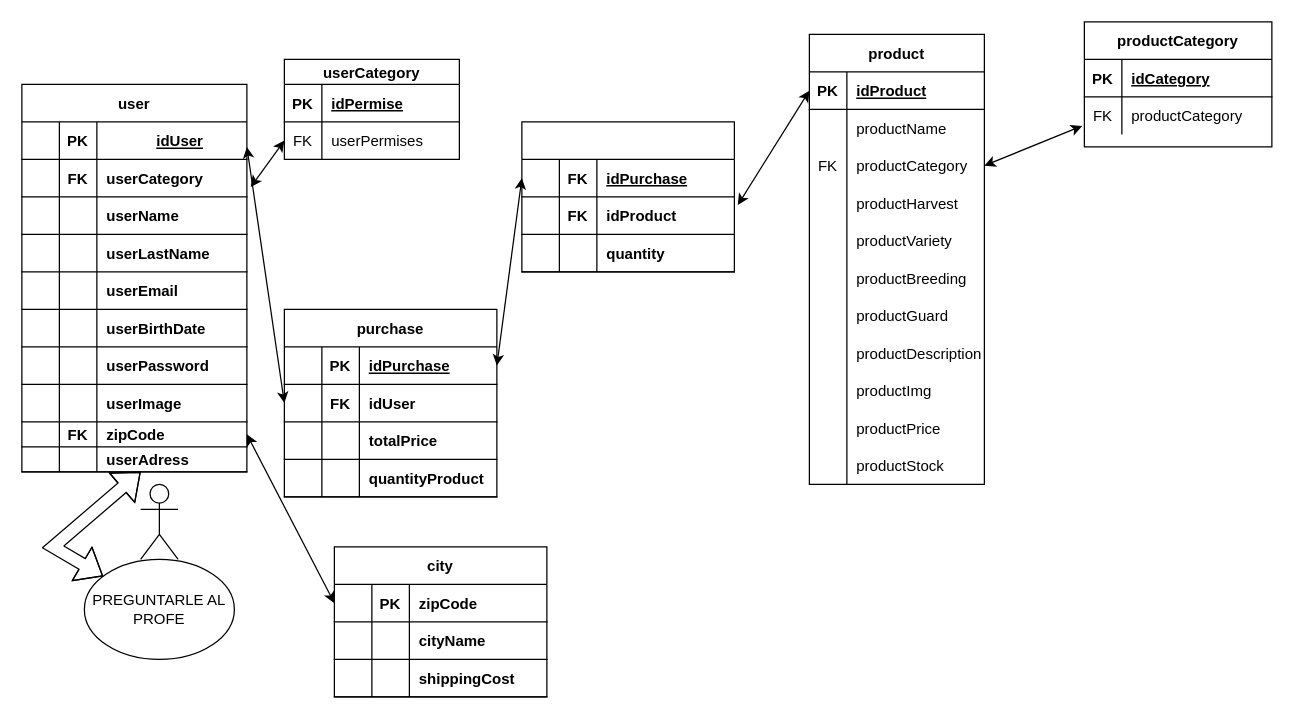
Some shapes in this 1294 by 719 pixel diagram are drawn without their labels. The box of each missing label's shape, as (x1, y1, x2, y2) in pixels:
Actor: (139, 483, 178, 559)
productPurchase: (521, 121, 734, 272)
